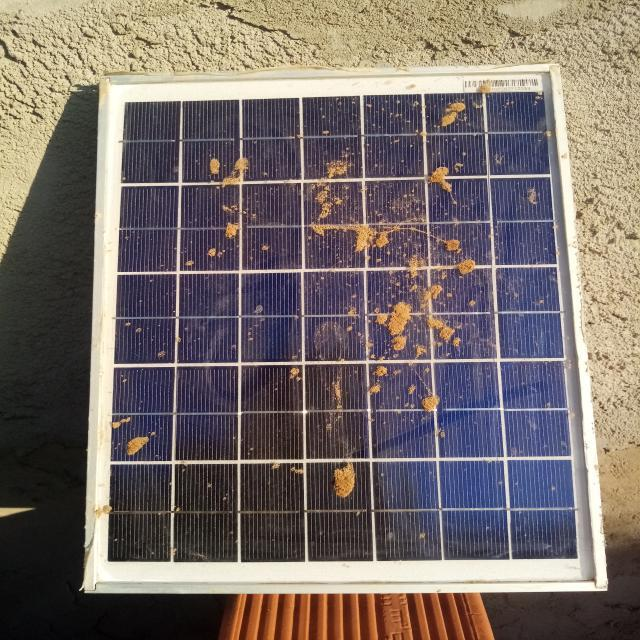faulty: (86, 69, 599, 589)
